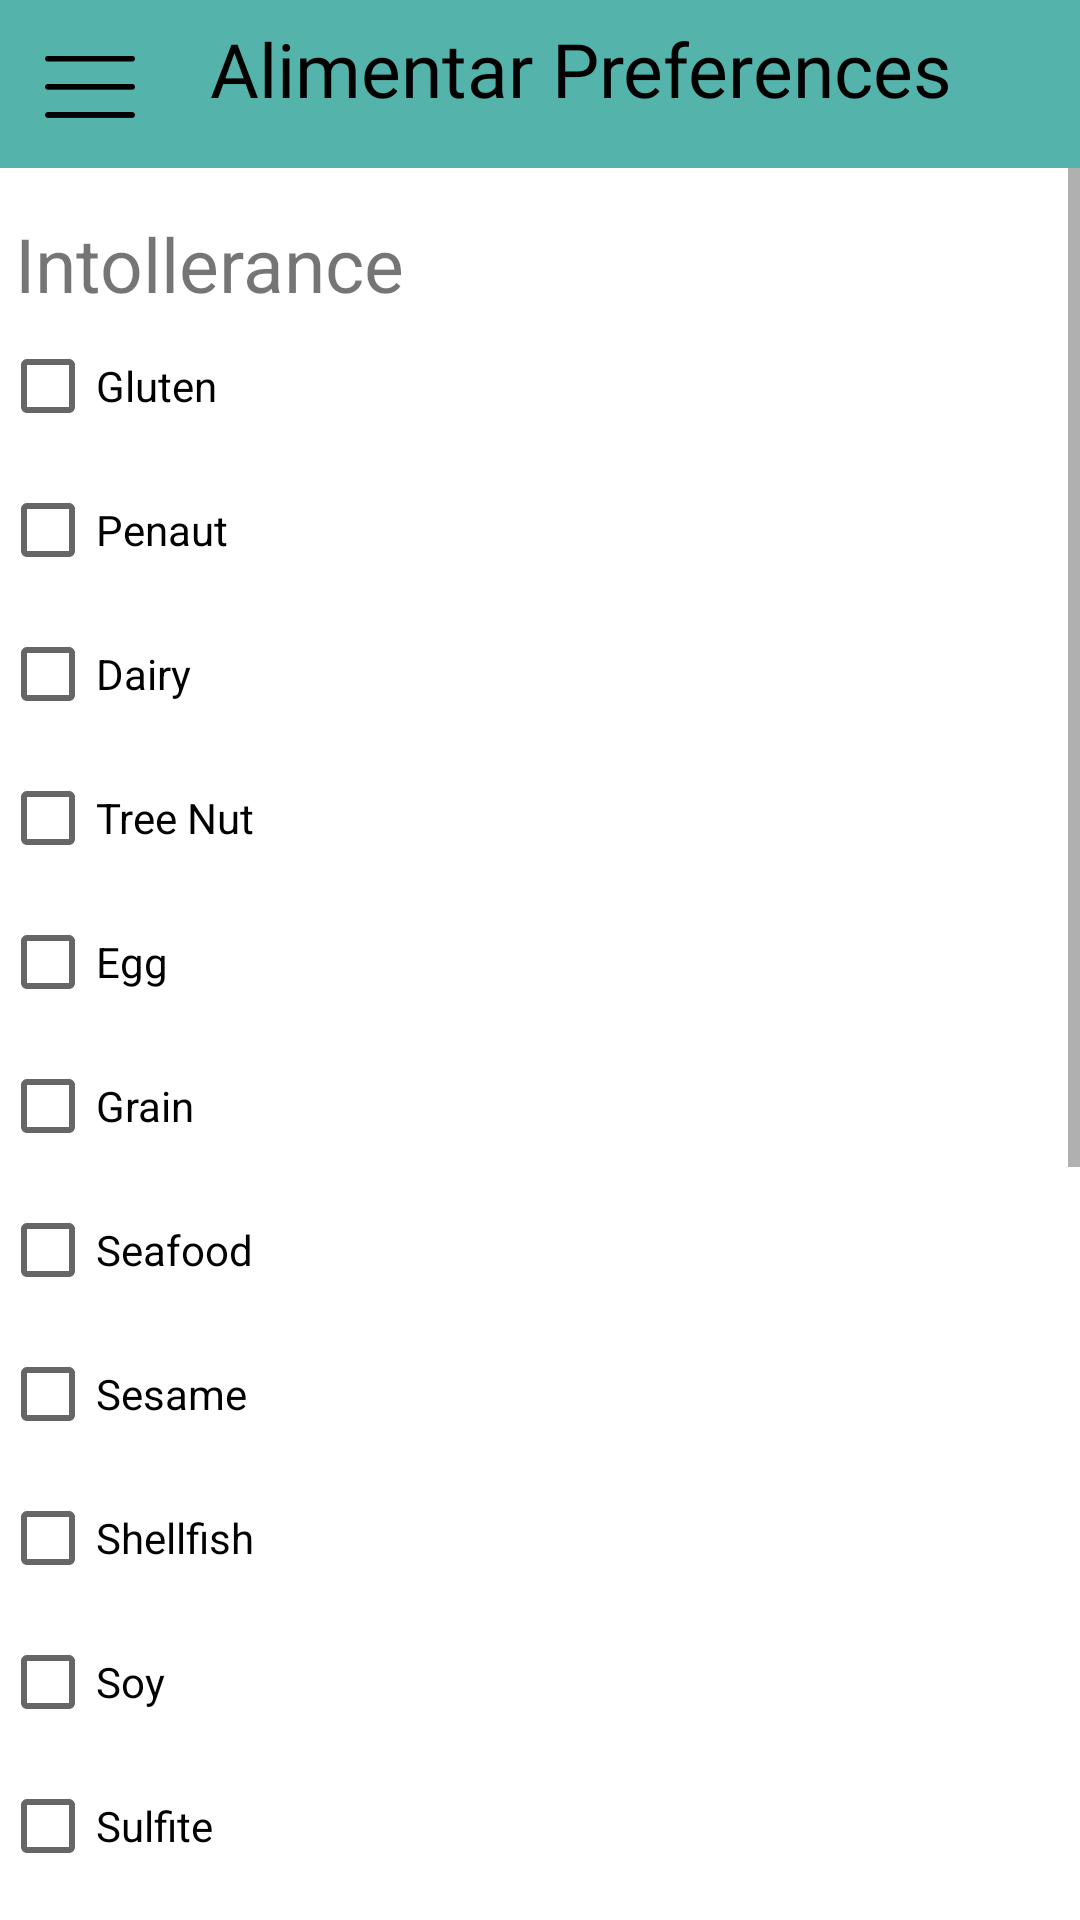

Icons on this 1080x1920 Android screen, each with its box as (x1=x1, y1=y1, x2=x2, y2=y2):
hamburger: (x1=45, y1=56, x2=135, y2=118)
